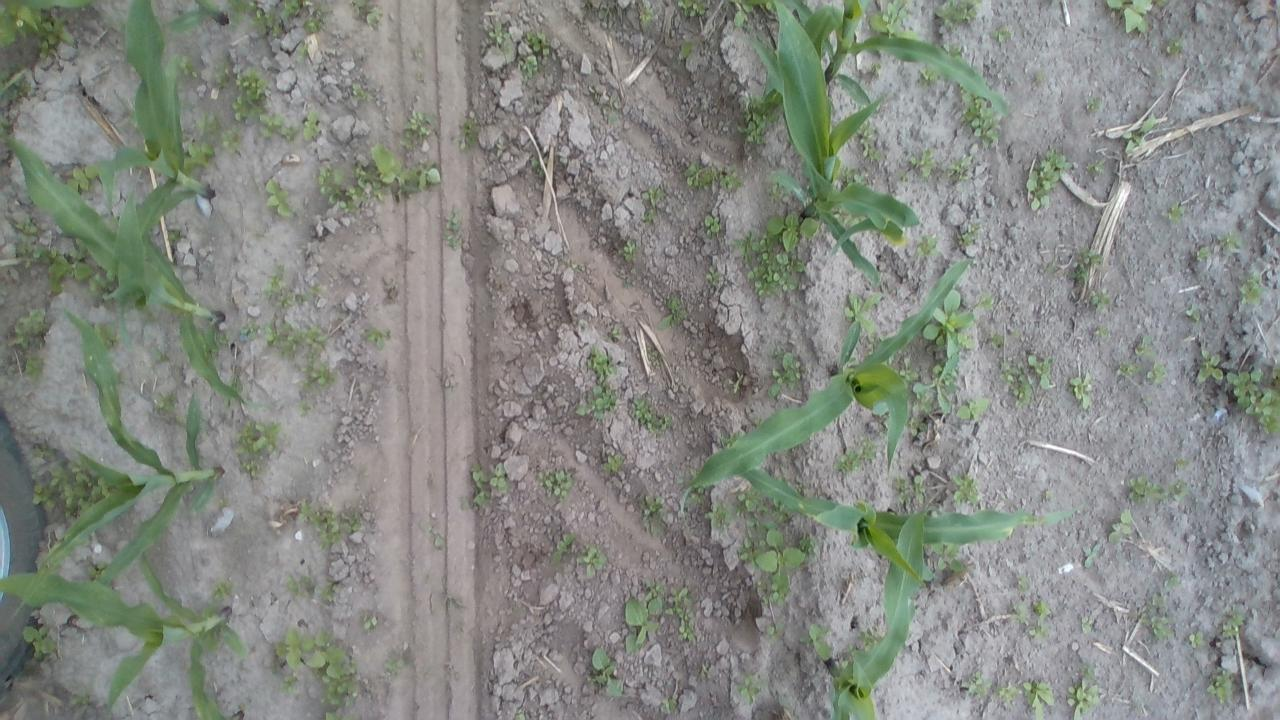Maize: (681, 256, 972, 515), (4, 134, 245, 402), (41, 308, 226, 584), (770, 0, 924, 284), (736, 466, 1080, 580), (0, 552, 247, 710), (743, 0, 1009, 117), (96, 0, 216, 242), (826, 503, 926, 720), (188, 635, 246, 720), (164, 0, 232, 34), (5, 0, 93, 10)
Weeds: (262, 264, 338, 416), (270, 622, 354, 720), (12, 216, 91, 295), (740, 519, 804, 607), (745, 232, 807, 306), (1224, 367, 1280, 435), (373, 142, 442, 197), (32, 462, 98, 515), (620, 577, 666, 652), (314, 162, 382, 208), (1002, 353, 1056, 407), (234, 420, 280, 483), (735, 89, 781, 151), (1010, 576, 1052, 642), (1024, 148, 1068, 211), (300, 503, 363, 546), (912, 358, 959, 414), (1140, 576, 1180, 638), (766, 207, 819, 252), (937, 290, 973, 355), (1126, 474, 1188, 506), (232, 64, 266, 122), (586, 646, 625, 696), (766, 344, 802, 396), (1068, 664, 1101, 720), (684, 160, 744, 190), (8, 308, 52, 348), (1103, 0, 1156, 33), (626, 396, 672, 434), (960, 96, 999, 140), (666, 585, 696, 641), (574, 386, 620, 422), (2, 3, 41, 45), (870, 0, 914, 36), (840, 292, 879, 332), (802, 621, 839, 663), (1122, 113, 1158, 156), (1021, 678, 1059, 718), (471, 465, 508, 506), (261, 178, 296, 218), (931, 0, 982, 27), (406, 105, 434, 150), (837, 440, 875, 473), (34, 18, 66, 57), (23, 624, 56, 661), (1105, 508, 1136, 546), (586, 345, 616, 384), (854, 127, 886, 162), (445, 203, 469, 249), (182, 136, 214, 170), (542, 468, 574, 501), (1069, 250, 1104, 280), (1195, 347, 1224, 382), (891, 475, 924, 505), (951, 474, 980, 508), (657, 294, 684, 330), (64, 166, 100, 192), (638, 495, 663, 532), (641, 187, 668, 221), (734, 488, 766, 516), (581, 545, 608, 577), (216, 126, 244, 156), (1070, 372, 1092, 410), (351, 0, 383, 26), (302, 108, 324, 145), (950, 221, 980, 248), (284, 576, 314, 602), (908, 150, 934, 180), (1208, 668, 1232, 700), (1240, 272, 1262, 306), (552, 532, 574, 565), (30, 441, 61, 463), (382, 652, 408, 678), (736, 676, 760, 704), (452, 118, 474, 148), (946, 152, 971, 178), (361, 322, 388, 346), (956, 400, 988, 420), (488, 18, 512, 44), (258, 110, 280, 138), (708, 499, 728, 529), (841, 167, 876, 184), (1080, 540, 1102, 567), (676, 0, 712, 16), (196, 110, 218, 136), (153, 389, 180, 410), (972, 669, 994, 694), (1086, 157, 1112, 178), (999, 679, 1020, 705), (1224, 610, 1244, 636), (600, 453, 624, 474), (734, 1, 754, 26), (1162, 34, 1184, 56), (973, 290, 995, 312), (525, 30, 551, 48), (94, 323, 115, 345), (24, 356, 46, 377), (636, 0, 657, 22), (1082, 94, 1103, 115), (252, 8, 274, 28), (702, 214, 722, 236), (764, 182, 786, 202), (706, 264, 724, 288), (1218, 231, 1242, 249), (1088, 290, 1115, 306), (515, 54, 537, 73), (182, 58, 200, 80), (212, 584, 236, 600), (800, 535, 820, 554), (916, 235, 937, 253), (942, 39, 964, 56), (989, 23, 1011, 40), (216, 63, 232, 86), (239, 318, 259, 336), (1146, 361, 1164, 381), (1118, 359, 1138, 377), (1167, 203, 1185, 221), (1042, 262, 1062, 278), (1079, 613, 1095, 633), (918, 68, 938, 84), (278, 0, 302, 13), (764, 624, 786, 638), (662, 696, 679, 714), (1132, 336, 1150, 353), (325, 582, 341, 601), (351, 82, 367, 100), (1188, 631, 1206, 647), (679, 38, 694, 57), (988, 332, 1004, 348), (866, 62, 882, 78), (230, 0, 248, 14), (362, 614, 378, 629), (294, 43, 308, 60), (270, 24, 286, 38), (305, 16, 320, 30), (608, 330, 623, 344), (168, 226, 180, 243), (217, 334, 233, 346), (1030, 70, 1046, 82), (1173, 457, 1192, 467), (1198, 243, 1208, 262), (1186, 306, 1200, 319), (1095, 327, 1110, 339), (153, 350, 168, 362), (514, 705, 526, 720), (217, 498, 231, 508), (624, 240, 634, 254), (1043, 488, 1056, 498)
